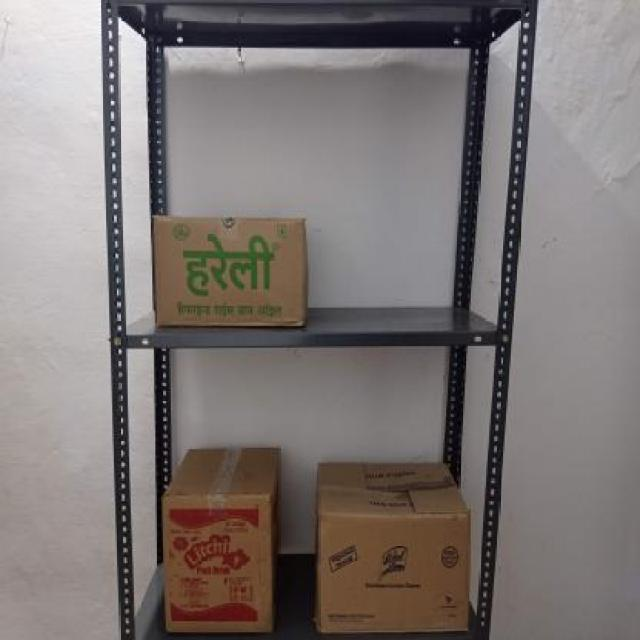box: (314, 513, 470, 630), (153, 216, 304, 329), (164, 492, 268, 632)
